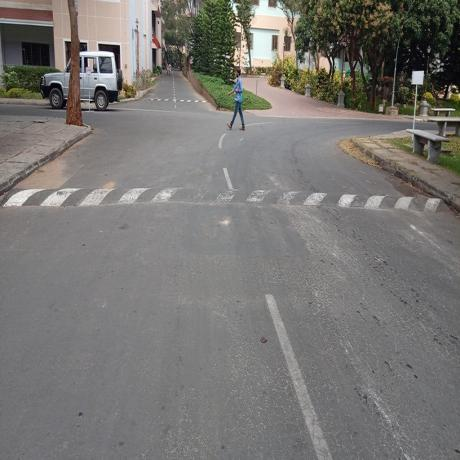Speed Bump: (0, 186, 452, 219)
